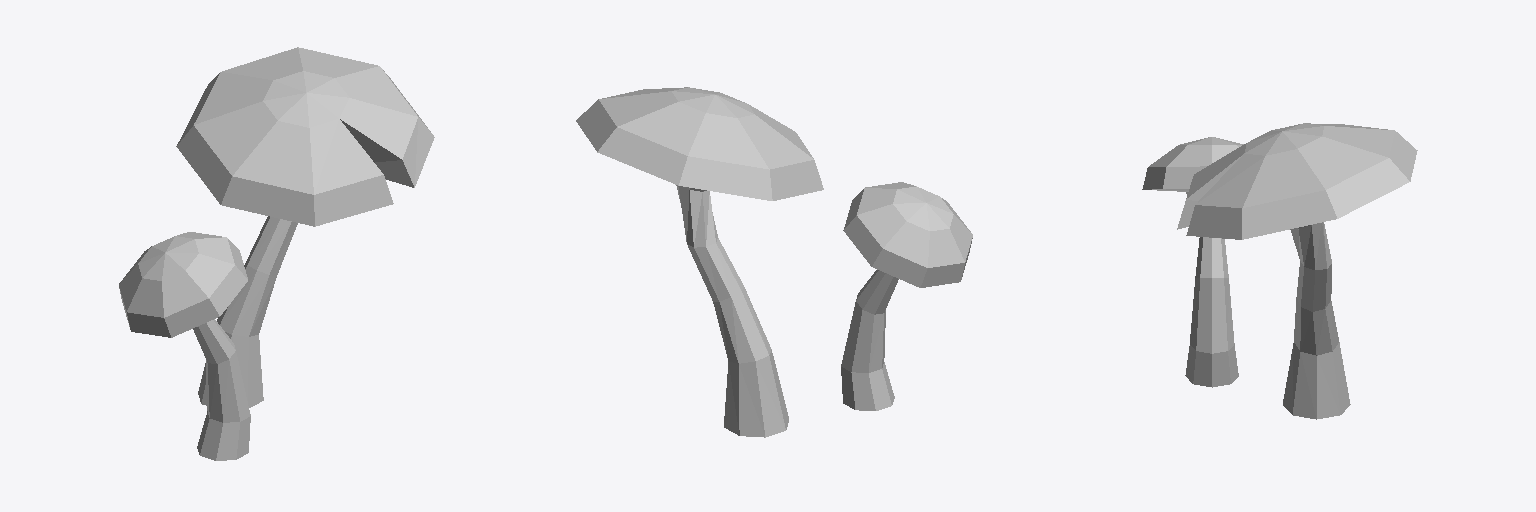
Rendered from mushroomg3.obj.
The picture shows the model from 3 angles: view 1: azimuth 30°, elevation 25°; view 2: azimuth 150°, elevation 25°; view 3: azimuth 270°, elevation 25°; orthographic projection.
Bounding box in the file's own units: 1.53 × 1.37 × 1.12.